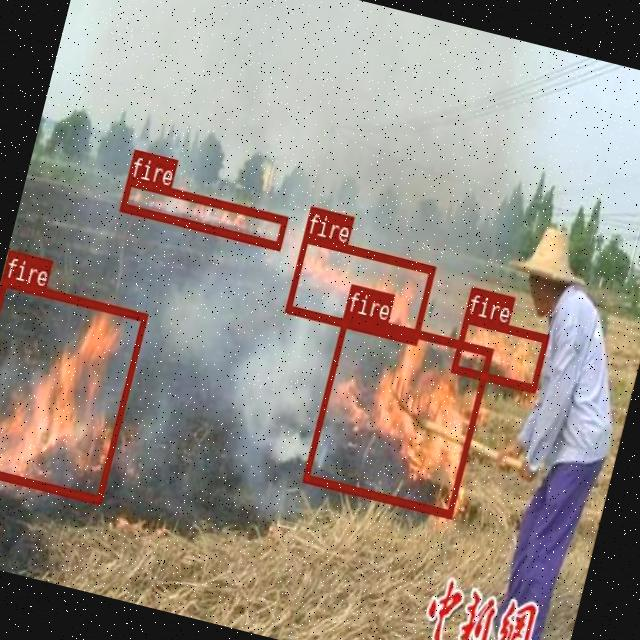fire: (301, 310, 492, 516), (0, 276, 147, 501), (284, 232, 434, 342), (120, 175, 288, 248), (449, 314, 548, 392)
